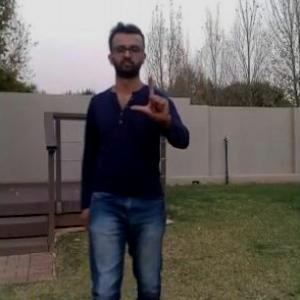land_hand: (130, 72, 174, 128)
